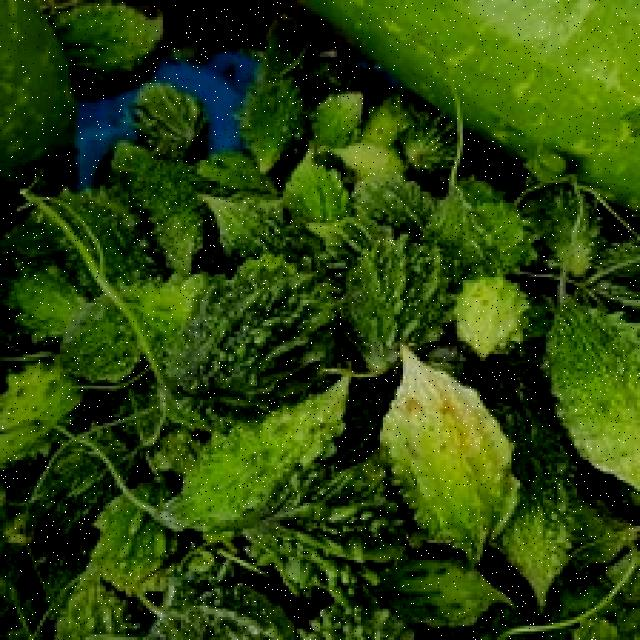Bitter Gourd: (242, 0, 516, 256), (136, 245, 348, 409), (368, 340, 514, 550), (535, 259, 640, 535)
